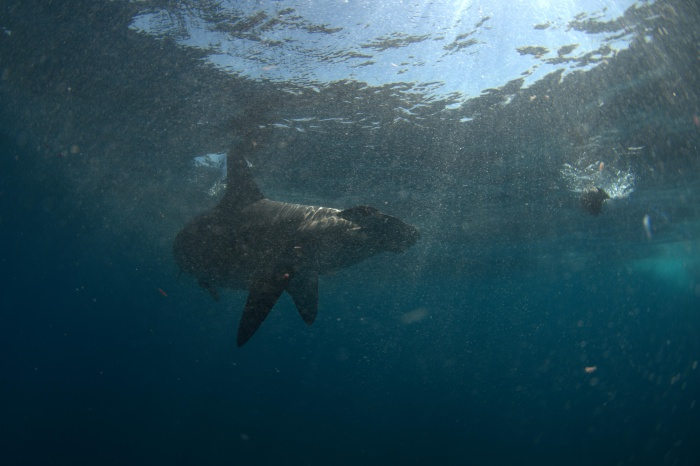Hammer: (136, 134, 434, 360)
